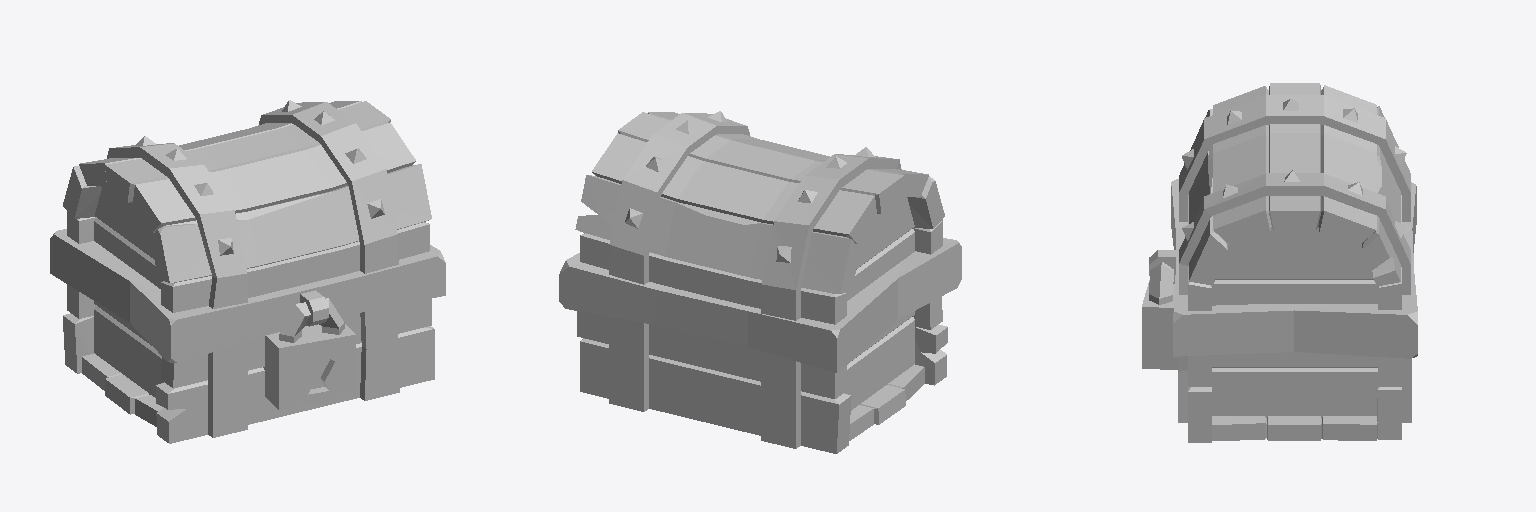
Rendered from chest.obj.
The picture shows the model from 3 angles: view 1: azimuth 30°, elevation 25°; view 2: azimuth 150°, elevation 25°; view 3: azimuth 270°, elevation 25°; orthographic projection.
Visible parts, largest first — view 1: mff_prop_chest; view 2: mff_prop_chest; view 3: mff_prop_chest.
Part boxes in pixels (left/top/right/bottom): mff_prop_chest: left=50, top=100, right=445, bottom=443; mff_prop_chest: left=559, top=111, right=961, bottom=453; mff_prop_chest: left=1142, top=83, right=1417, bottom=442.
Size of the model in its own units: 1.35 by 1.13 by 1.16.